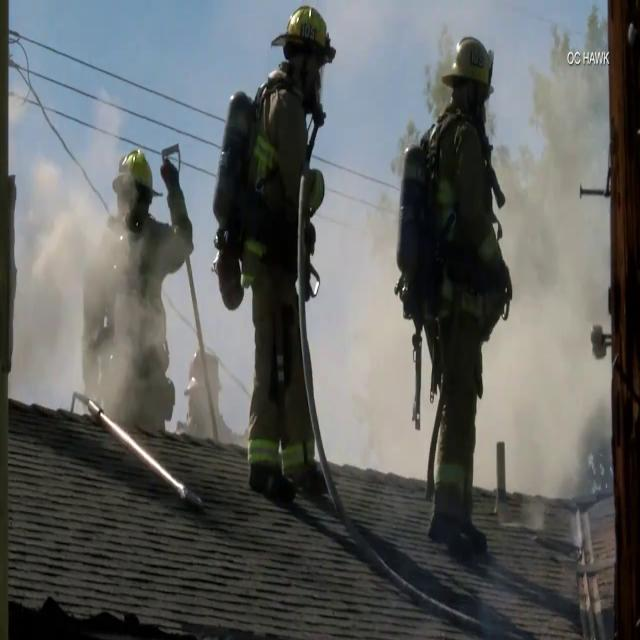Smoke: (475, 11, 611, 496), (20, 156, 176, 450)
